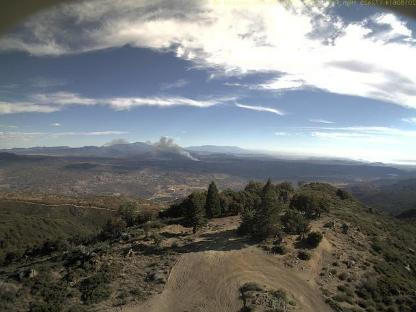smoke: (103, 134, 203, 162)
